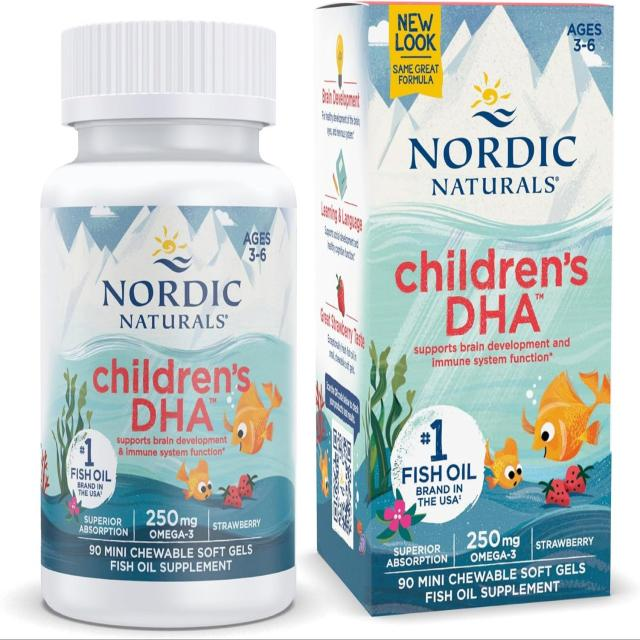food-supliment: (350, 0, 612, 608), (54, 162, 295, 587)
